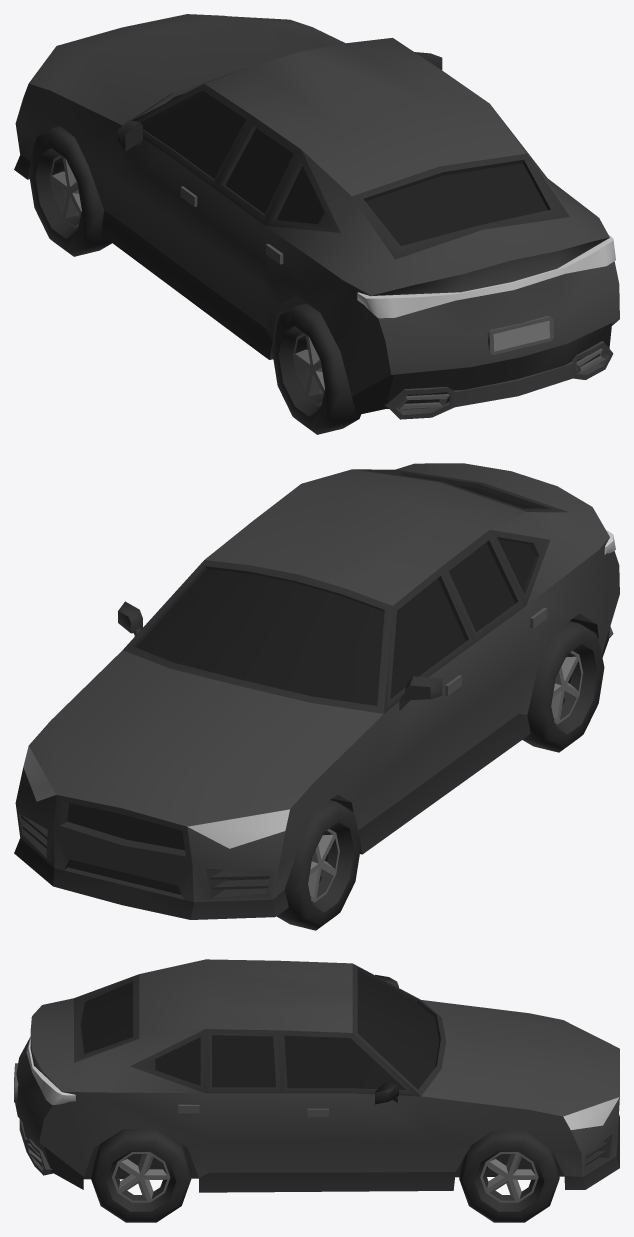
The model's file is coupe.obj.
3 views of the same model, one above another, from view 1: azimuth 30°, elevation 25°; view 2: azimuth 150°, elevation 25°; view 3: azimuth 270°, elevation 25° (orthographic). The views are drawn at different scales.
Visible parts, largest first — view 1: coupe, wheels.034, wheels.035; view 2: coupe, wheels.034, wheels.035; view 3: coupe, wheels.024, wheels.025.
Boxes of the visible parts, left/top/right/bottom form: coupe: left=14, top=14, right=619, bottom=419; wheels.034: left=272, top=303, right=361, bottom=434; wheels.035: left=28, top=126, right=111, bottom=256; coupe: left=14, top=463, right=619, bottom=919; wheels.034: left=522, top=621, right=604, bottom=752; wheels.035: left=276, top=800, right=361, bottom=930; coupe: left=14, top=959, right=619, bottom=1192; wheels.024: left=91, top=1129, right=191, bottom=1222; wheels.025: left=459, top=1131, right=559, bottom=1222.
Size of the model in its own units: 2.35 by 1.74 by 5.14.
4 materials, 3 textured.
